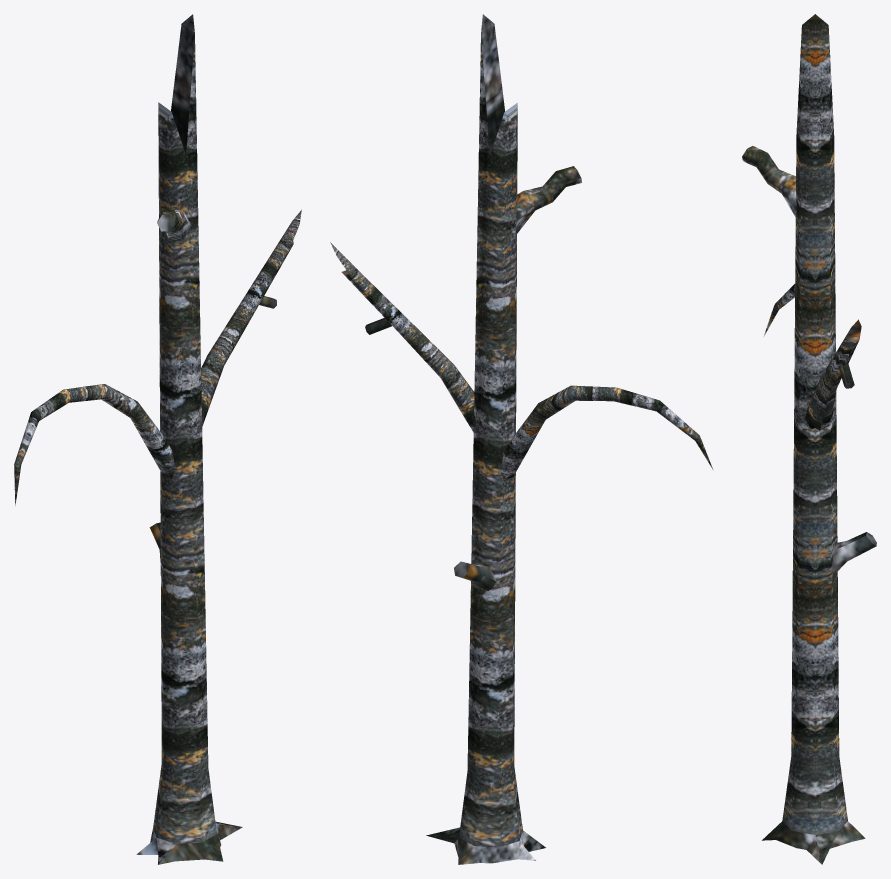
Rendered from Tree_Birch.FBX.
3 views of the same model, side by side, from view 1: azimuth 30°, elevation 25°; view 2: azimuth 150°, elevation 25°; view 3: azimuth 270°, elevation 25° (orthographic).
Parts seen in each view (by area): view 1: Cylinder001; view 2: Cylinder001; view 3: Cylinder001.
Boxes of the visible parts, box(x1,y1,x2,y2) form: Cylinder001: box(14, 14, 301, 864); Cylinder001: box(330, 14, 713, 864); Cylinder001: box(742, 14, 876, 864).
Bounding box in the file's own units: 75.49 × 179 × 26.49.
1 material, 1 textured.
